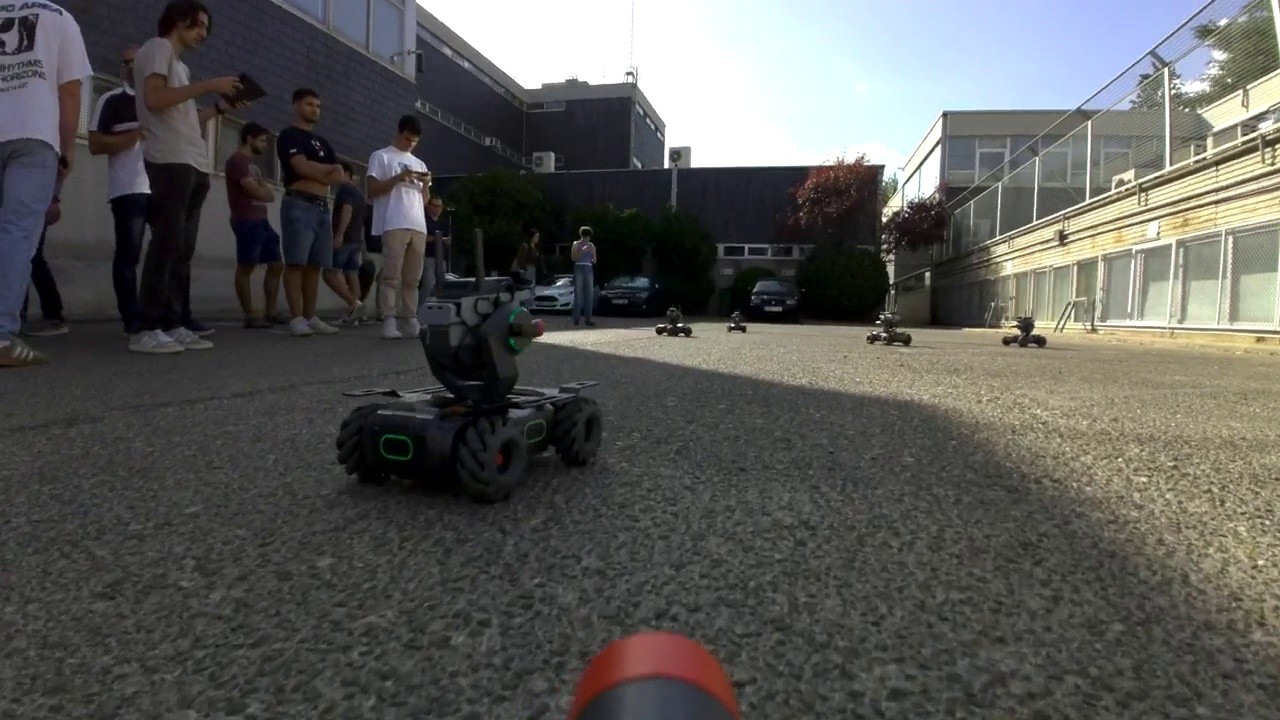robot: (336, 228, 603, 500), (861, 301, 916, 351), (652, 299, 693, 339), (1002, 315, 1048, 348), (725, 306, 747, 334)
